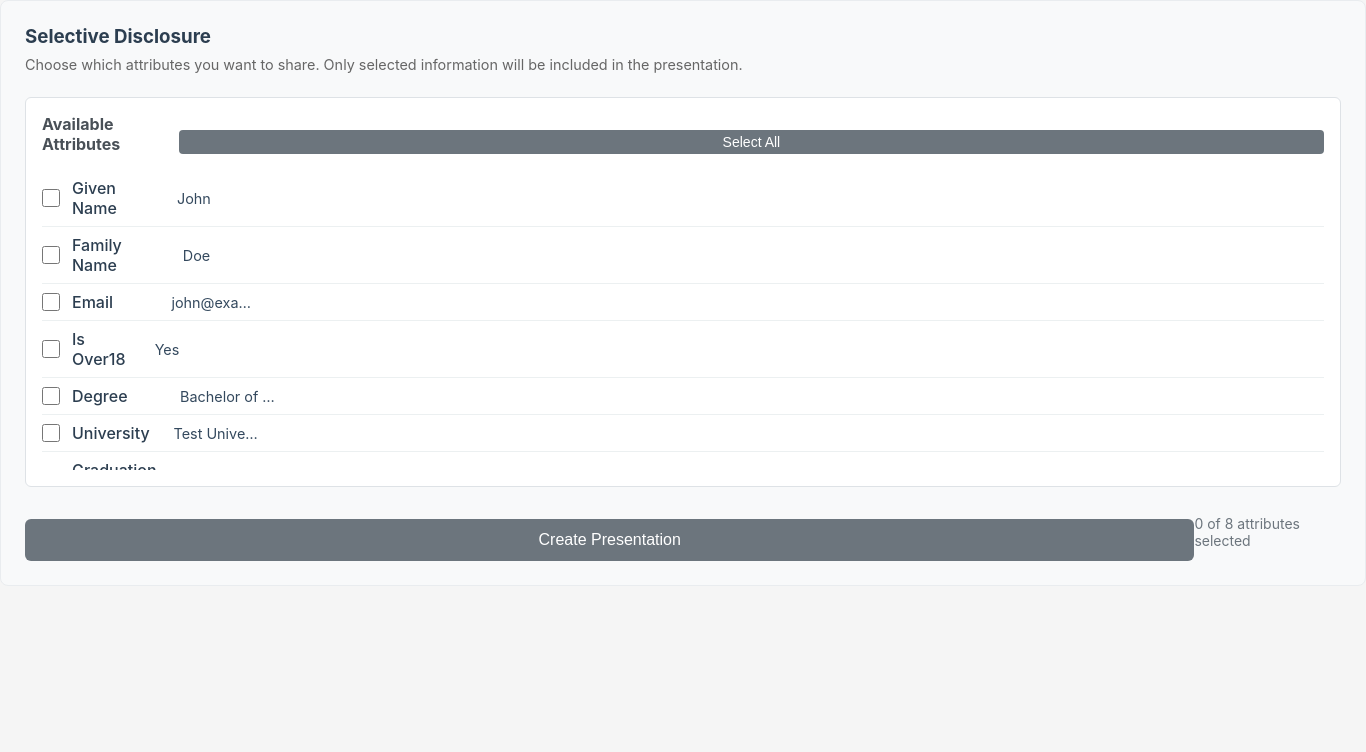
it: SelectiveDisclosure › should display presentation details when created
The image size is (1366, 752).
# Select attributes
What coordinates should you click on to do the following:
click the checkbox labelled "Family Name Doe"
I would click on:
 (51, 255)
Its box is [42,246,60,264].
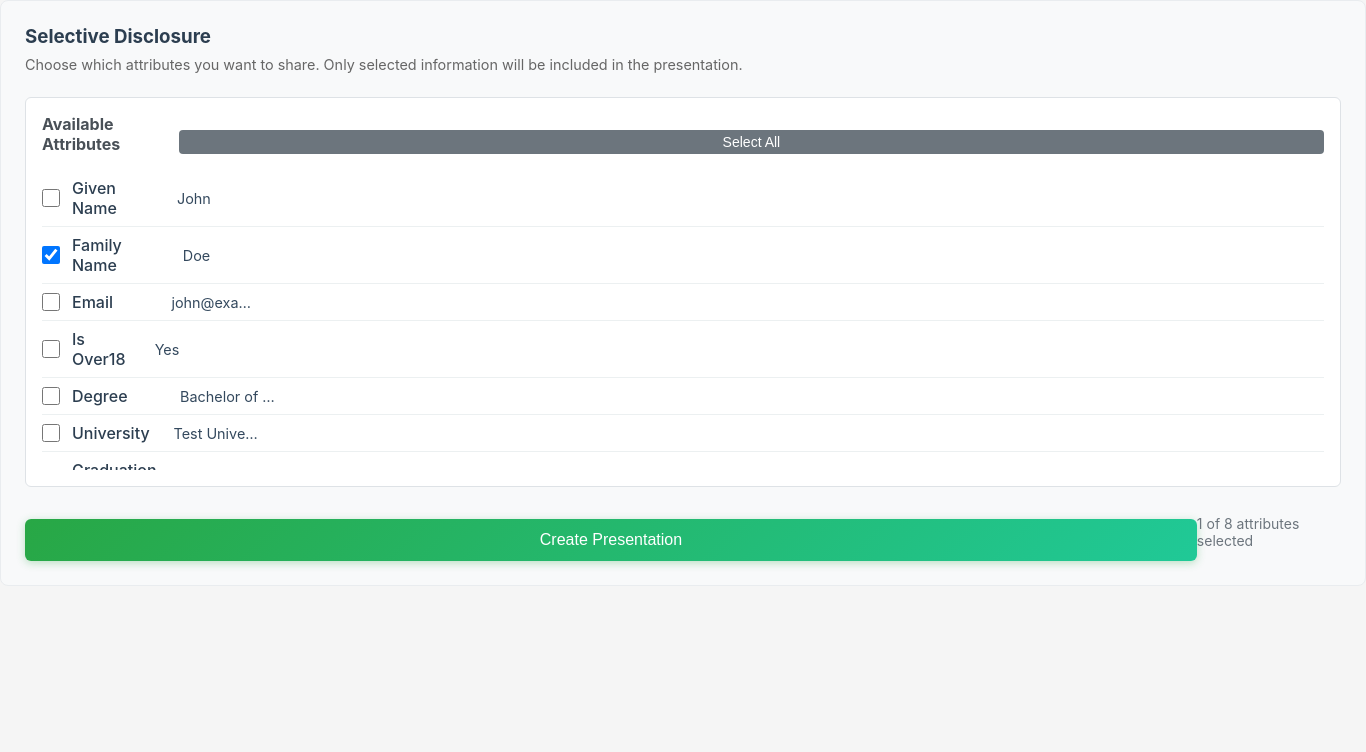
What coordinates should you click on to do the following:
click the checkbox labelled "Is Over18 Yes"
I would click on:
 (51, 349)
Its box is [42,340,60,358].
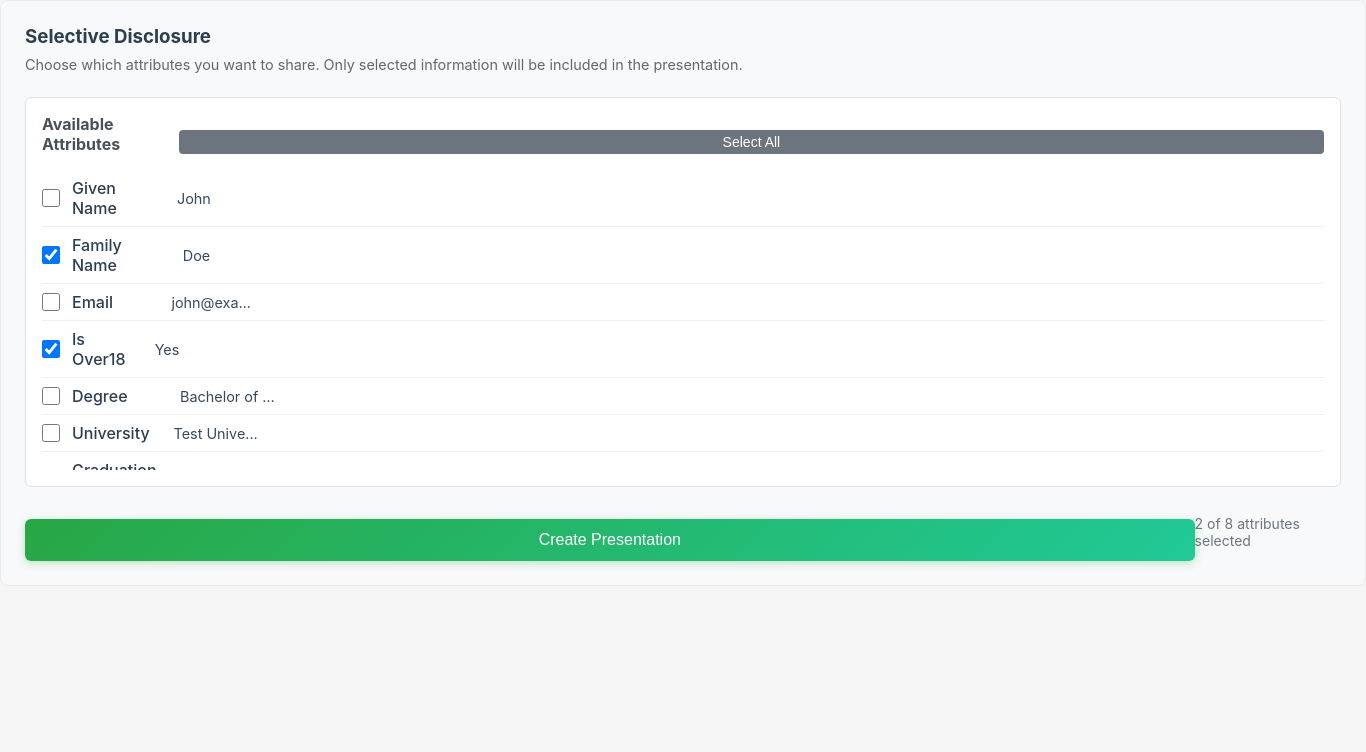
What coordinates should you click on to do the following:
click the button "Create Presentation"
I would click on:
 (610, 540)
Its box is [25,519,1195,561].
(page scrolled)
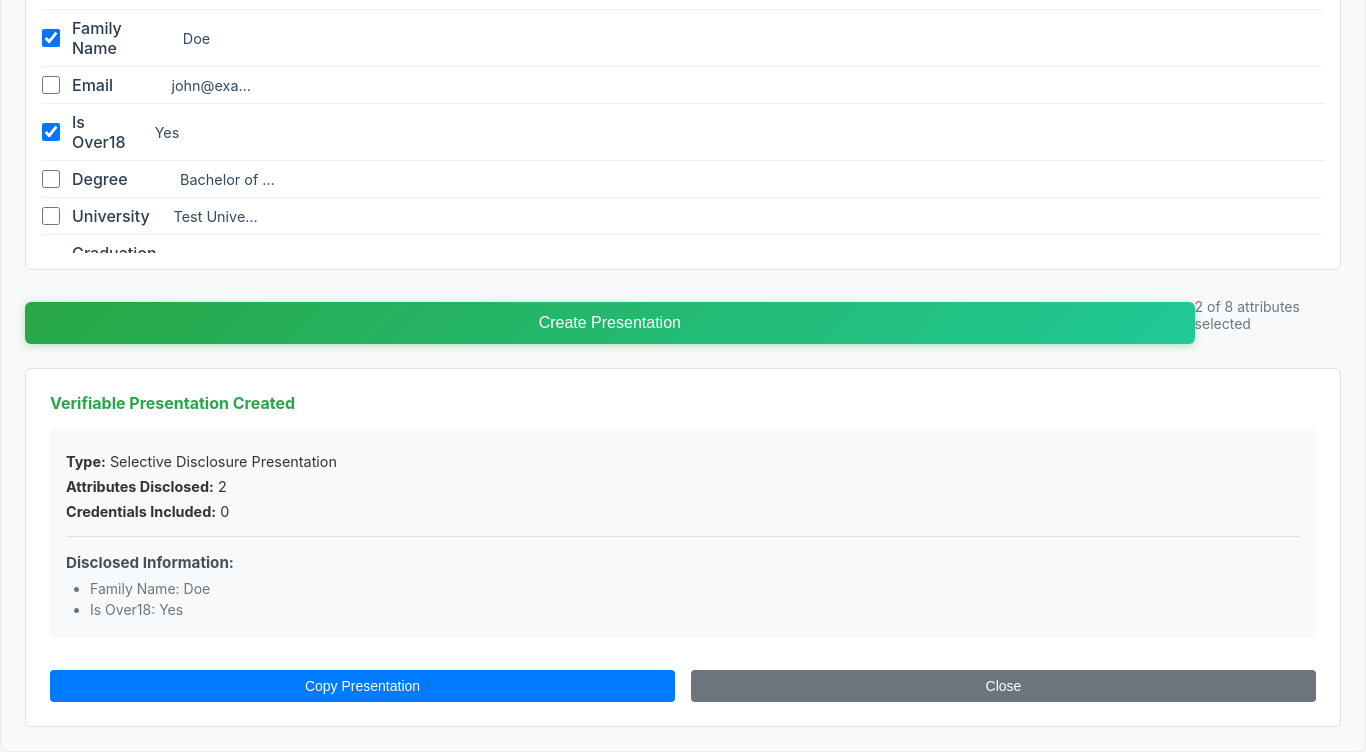
Result: the heading "Verifiable Presentation Created" is shown at [50,393,295,413]
Result: the text "Type:" is shown at [66,453,106,470]
Result: the text "Selective Disclosure Presentation" is shown at [106,453,337,470]
